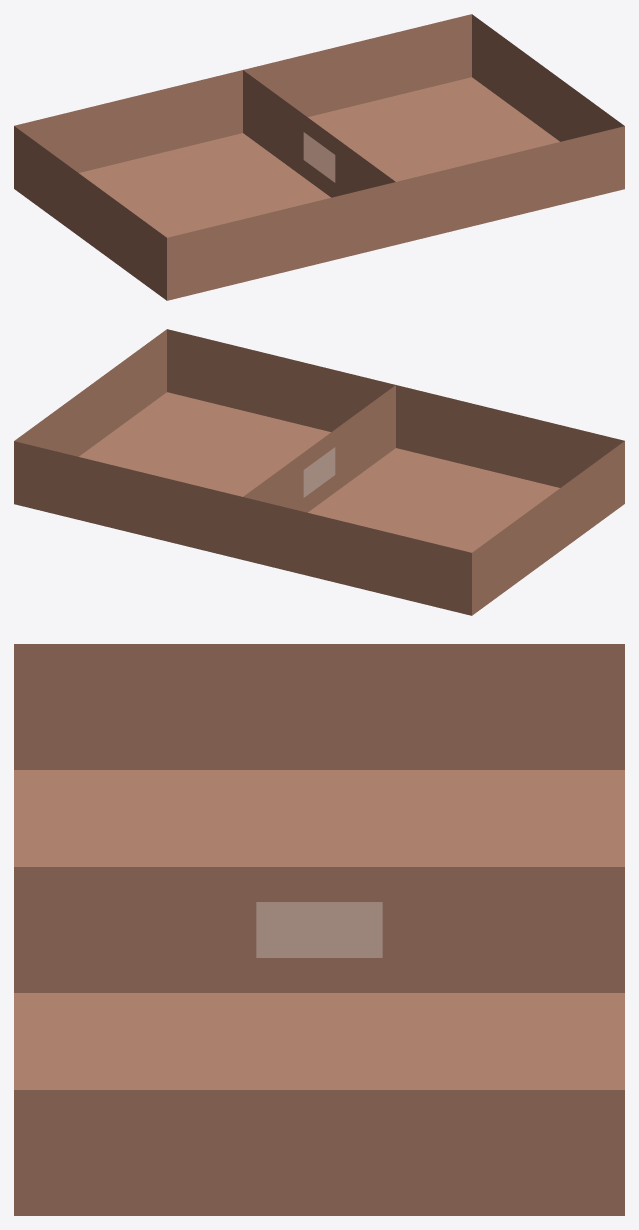
The model's file is room_1.glb.
3 views of the same model, one above another, from view 1: azimuth 30°, elevation 25°; view 2: azimuth 150°, elevation 25°; view 3: azimuth 270°, elevation 25° (orthographic). The views are drawn at different scales.
Visible parts, largest first — view 1: room1 -col; view 2: room1 -col; view 3: room1 -col.
Boxes of the visible parts, <box> form: room1 -col: <box>14,14,624,300</box>; room1 -col: <box>14,329,624,615</box>; room1 -col: <box>14,644,624,1215</box>.
Bounding box in the file's own units: 38 × 5 × 22.
